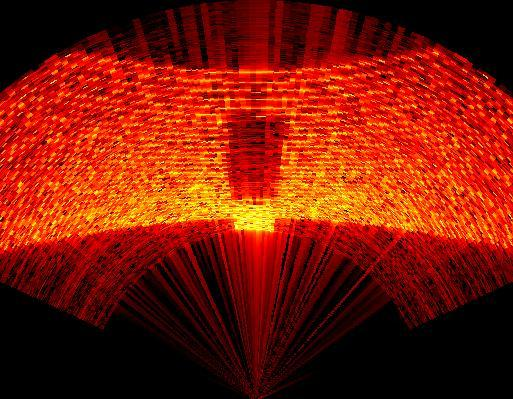box_crate: (220, 114, 287, 233)
